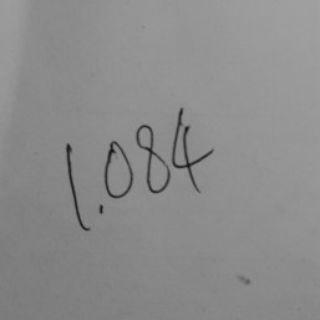.: (93, 202, 107, 216)
0: (102, 137, 136, 201)
1: (57, 137, 92, 234)
4: (171, 104, 216, 196)
8: (134, 120, 173, 195)
